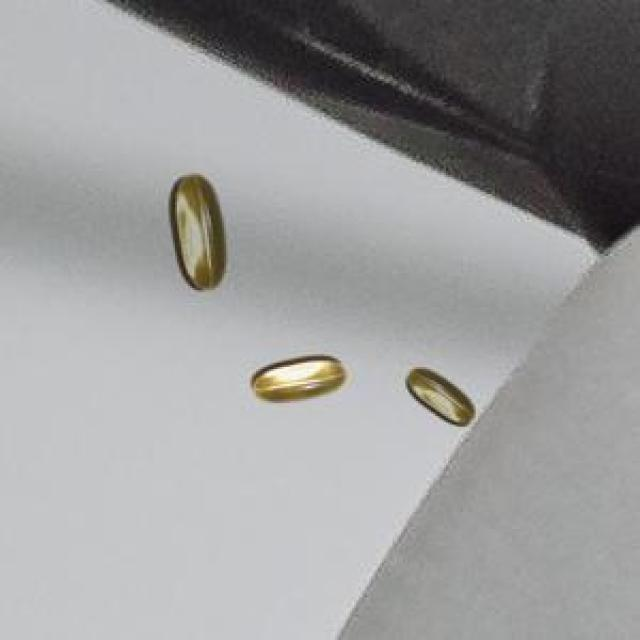Fish_Oil: (160, 162, 238, 304), (231, 345, 357, 415), (401, 354, 479, 440)
